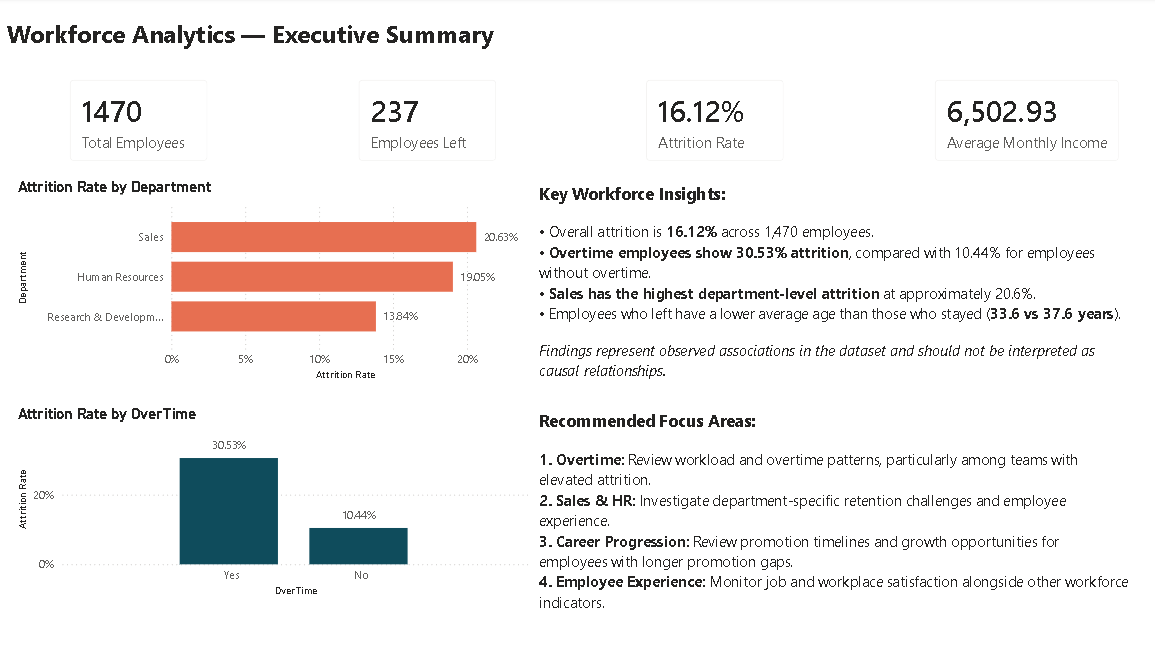

The page's visual inventory and layout, read from the dashboard file:
{"tool":"powerbi","page":{"name":"Executive Summary","canvas":[1280,720],"ordinal":3},"visuals":[{"type":"textbox","box":[11,16.5,584.6,57.6],"z":0},{"type":"cardVisual","fields":{"Data":["Employees.Total Employees"]},"box":[68.6,74.1,185.2,123.5],"z":1},{"type":"cardVisual","fields":{"Data":["Employees.Employees Left"]},"box":[385.1,74.1,185.2,123.5],"z":2},{"type":"cardVisual","fields":{"Data":["Employees.Attrition Rate"]},"box":[701.7,74.1,185.2,123.5],"z":3},{"type":"cardVisual","fields":{"Data":["Employees.Average Monthly Income"]},"box":[1018.2,74.1,236,123.5],"z":4},{"type":"clusteredBarChart","fields":{"Category":["Employees.Department"],"Y":["Employees.Attrition Rate"]},"box":[23.3,197.6,572.2,227.8],"z":5},{"type":"textbox","box":[595.5,197.6,658.7,172.9],"z":6},{"type":"textbox","box":[595.5,370.5,658.7,54.9],"z":7},{"type":"clusteredColumnChart","fields":{"Category":["Employees.OverTime"],"Y":["Employees.Attrition Rate"]},"box":[23.3,447.3,572.2,215.4],"z":8},{"type":"textbox","box":[595.5,447.3,660,234.6],"z":9}]}

Visuals, with their boxes in screenshot pixels (x1, y1, x2, y2), scaled from the page's 1280x720 canvas onto the 1155x650 screenshot:
textbox: 10,15,537,67
cardVisual - Employees.Total Employees: 62,67,229,178
cardVisual - Employees.Employees Left: 347,67,515,178
cardVisual - Employees.Attrition Rate: 633,67,800,178
cardVisual - Employees.Average Monthly Income: 919,67,1132,178
clusteredBarChart - Employees.Department x Employees.Attrition Rate: 21,178,537,384
textbox: 537,178,1132,334
textbox: 537,334,1132,384
clusteredColumnChart - Employees.OverTime x Employees.Attrition Rate: 21,404,537,598
textbox: 537,404,1133,616
